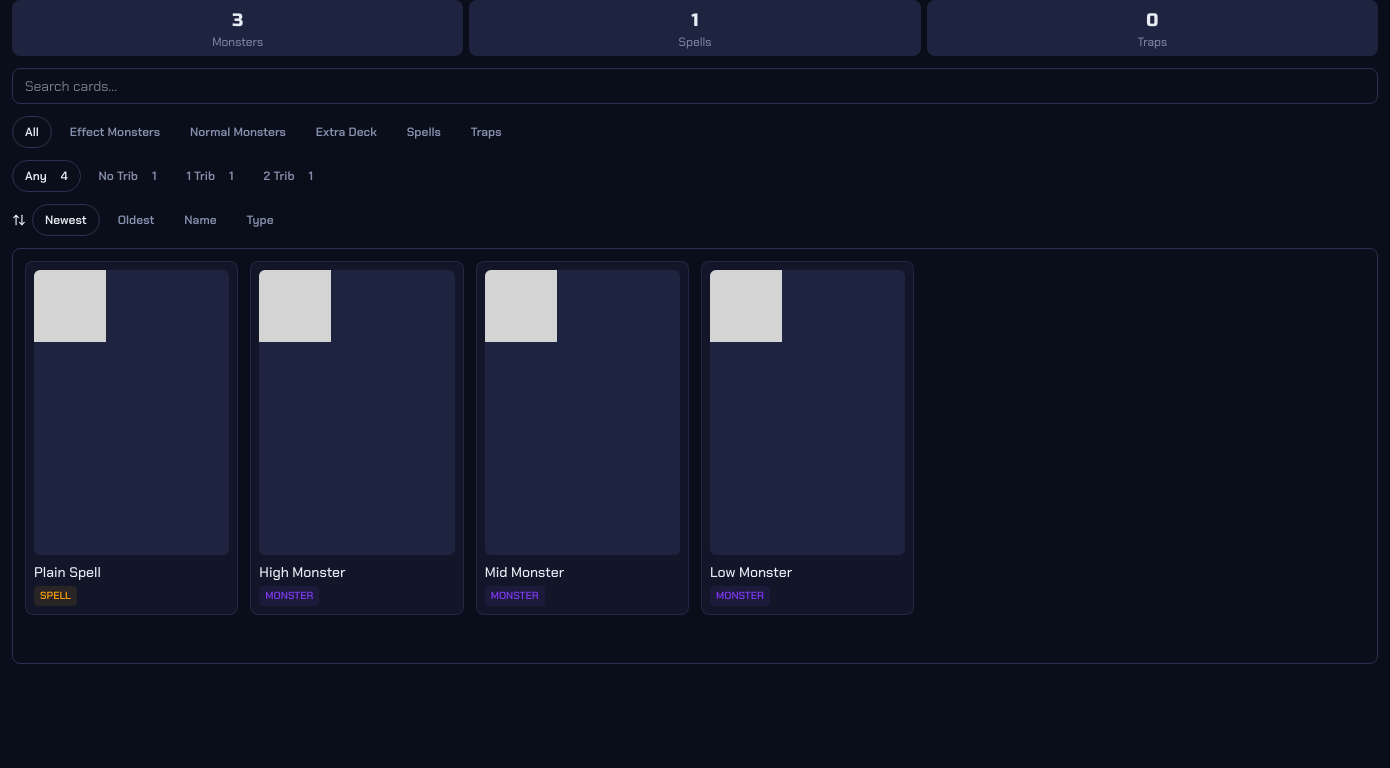
Test: CardPoolGrid › ANDs the tribute tier with the type filter, yielding the no-match message for impossible combos
Click the button "Spells" at {"x": 424, "y": 132}, box 395,116 -> 453,148
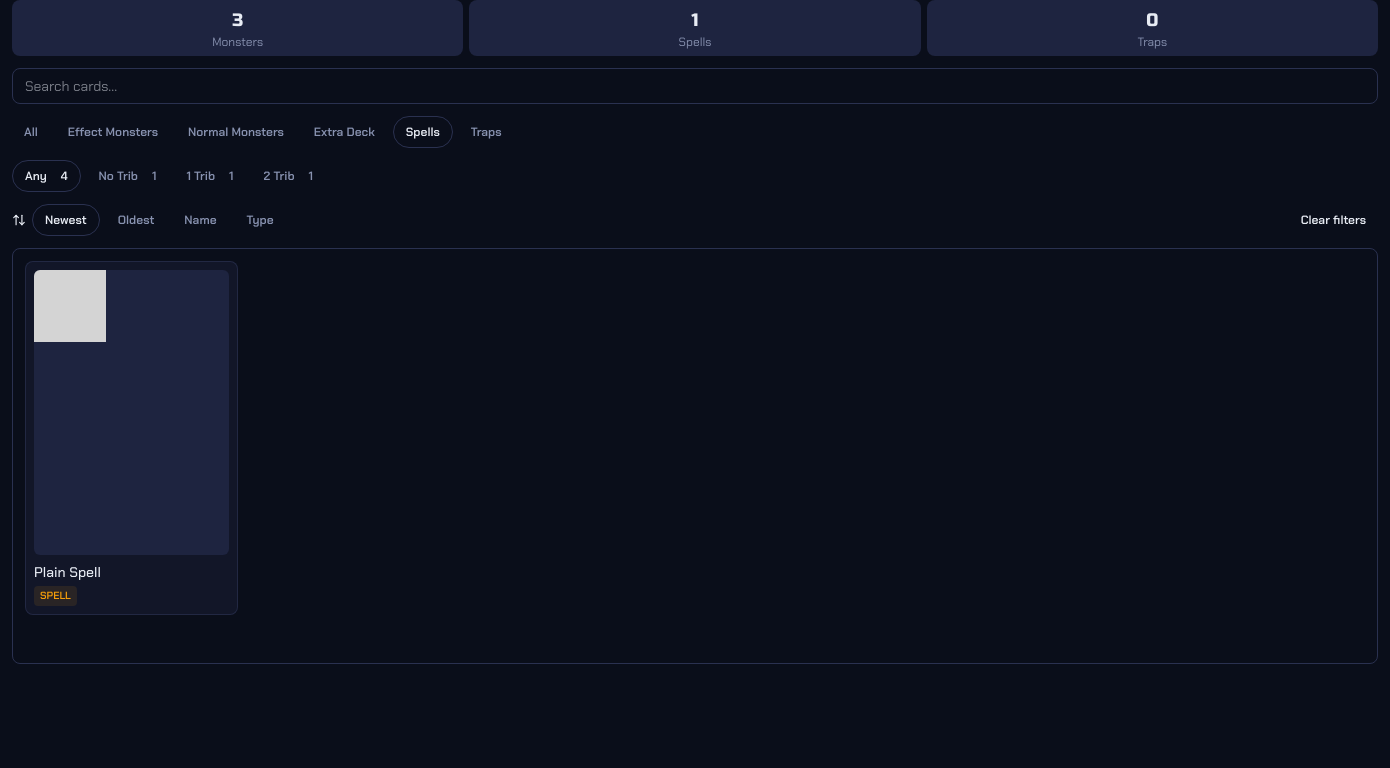
Click the button "1 Trib 1" at {"x": 210, "y": 176}, box 174,160 -> 246,192
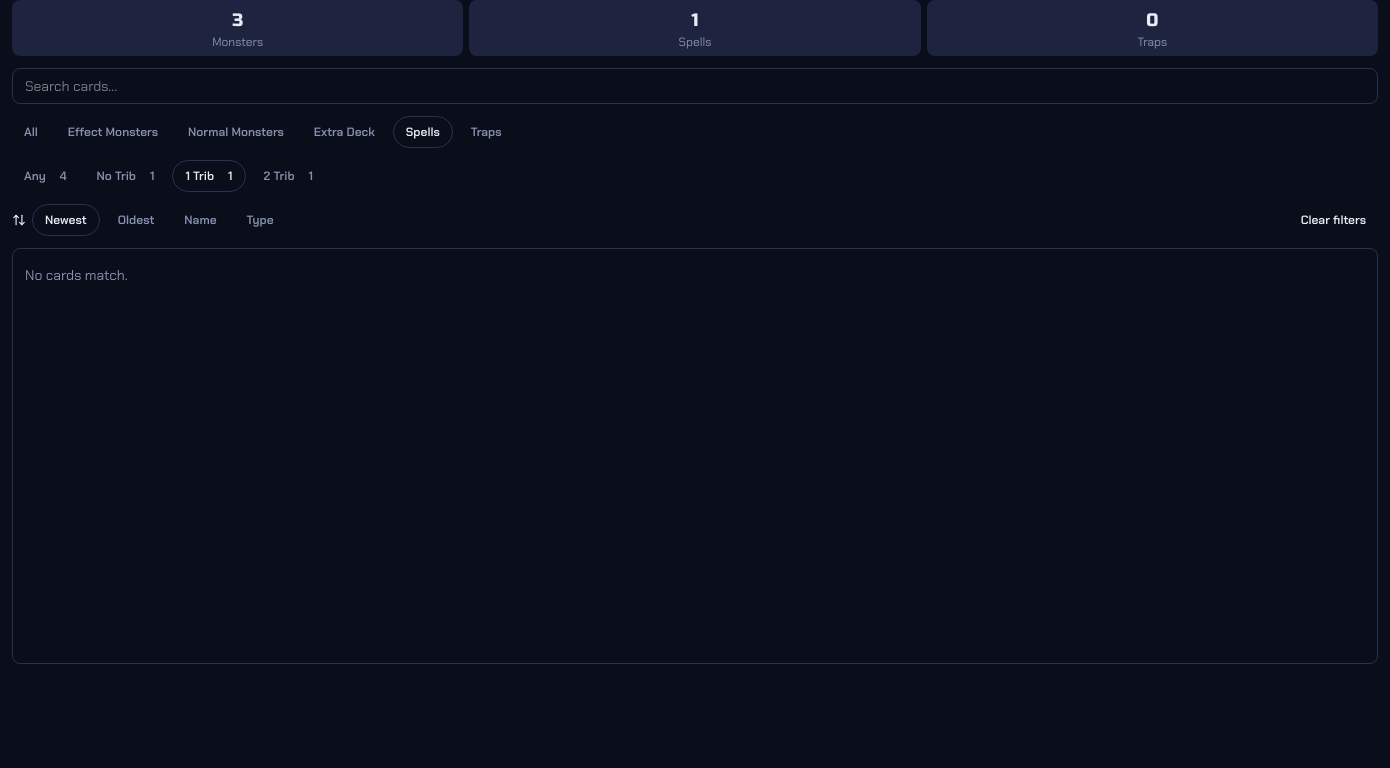
Now the text "No cards match." is shown, box 25,266 -> 128,284
